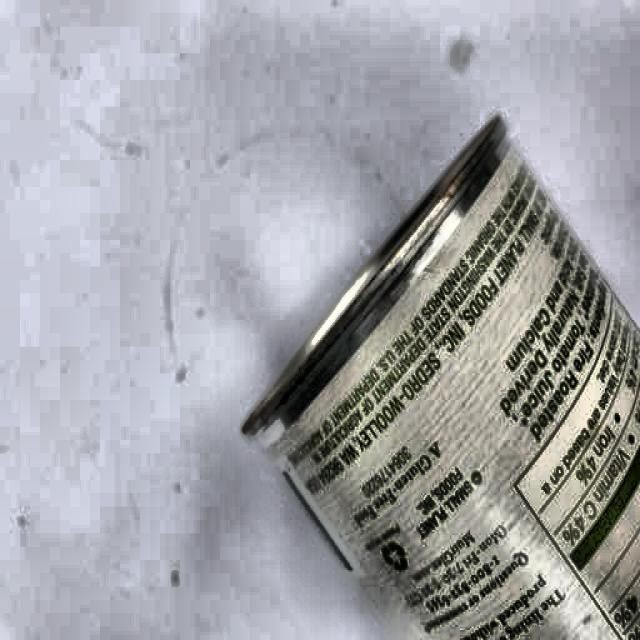metal: (245, 111, 640, 640)
